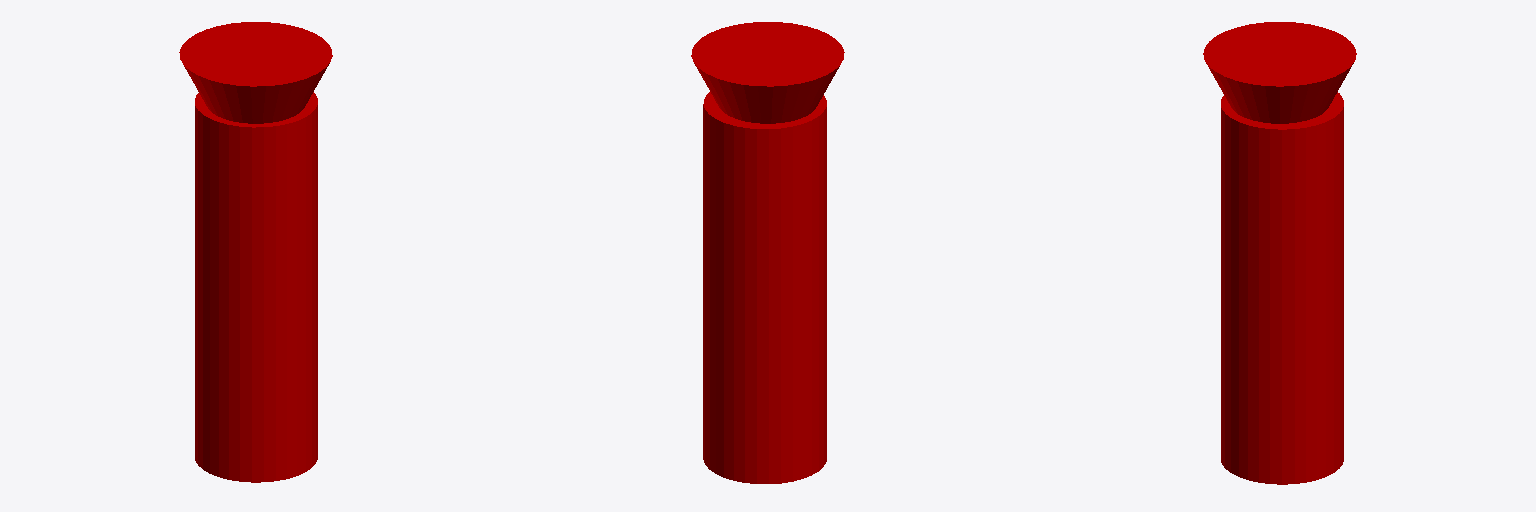
The model's file is torch.obj.
3 renders of one model, left to right at view 1: azimuth 30°, elevation 25°; view 2: azimuth 150°, elevation 25°; view 3: azimuth 270°, elevation 25°, orthographic.
Visible parts, largest first — view 1: Cone; view 2: Cone; view 3: Cone.
Boxes of the visible parts, x1,y1,x2,y2 form: Cone: [179, 22, 332, 482]; Cone: [691, 22, 844, 483]; Cone: [1203, 22, 1356, 484].
Size of the model in its own units: 2 by 5.8 by 2.